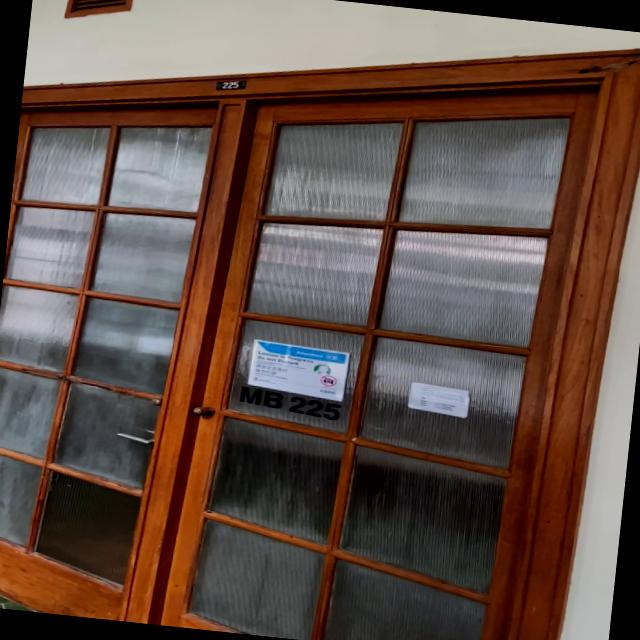room225: (214, 77, 244, 93)
room225Window: (235, 384, 346, 423)
